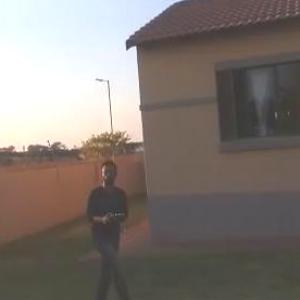follow: (79, 153, 140, 299)
